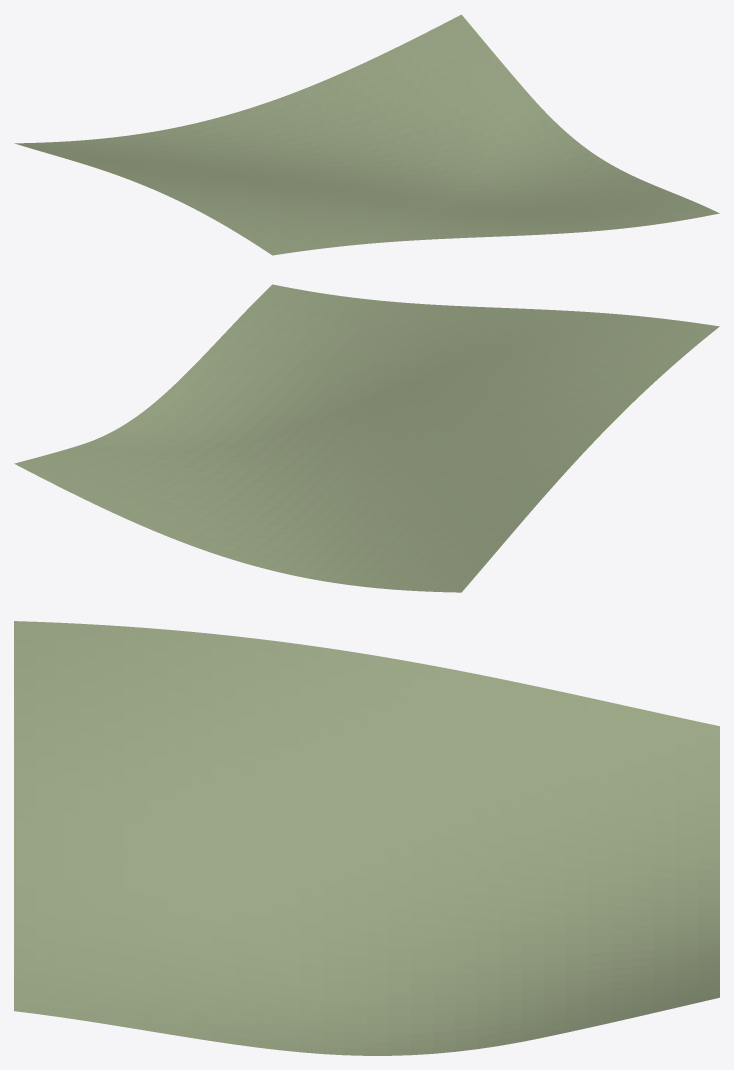
The model's file is expanse-14-16.glb.
3 renders of one model, top to bottom at view 1: azimuth 30°, elevation 25°; view 2: azimuth 150°, elevation 25°; view 3: azimuth 270°, elevation 25°, orthographic. The views are drawn at different scales.
Visible parts, largest first — view 1: expanse-14-16; view 2: expanse-14-16; view 3: expanse-14-16.
Boxes of the visible parts, left/top/right/bottom form: expanse-14-16: left=14, top=14, right=719, bottom=255; expanse-14-16: left=14, top=284, right=719, bottom=592; expanse-14-16: left=14, top=621, right=719, bottom=1055.
Size of the model in its own units: 256 by 57.12 by 256.
